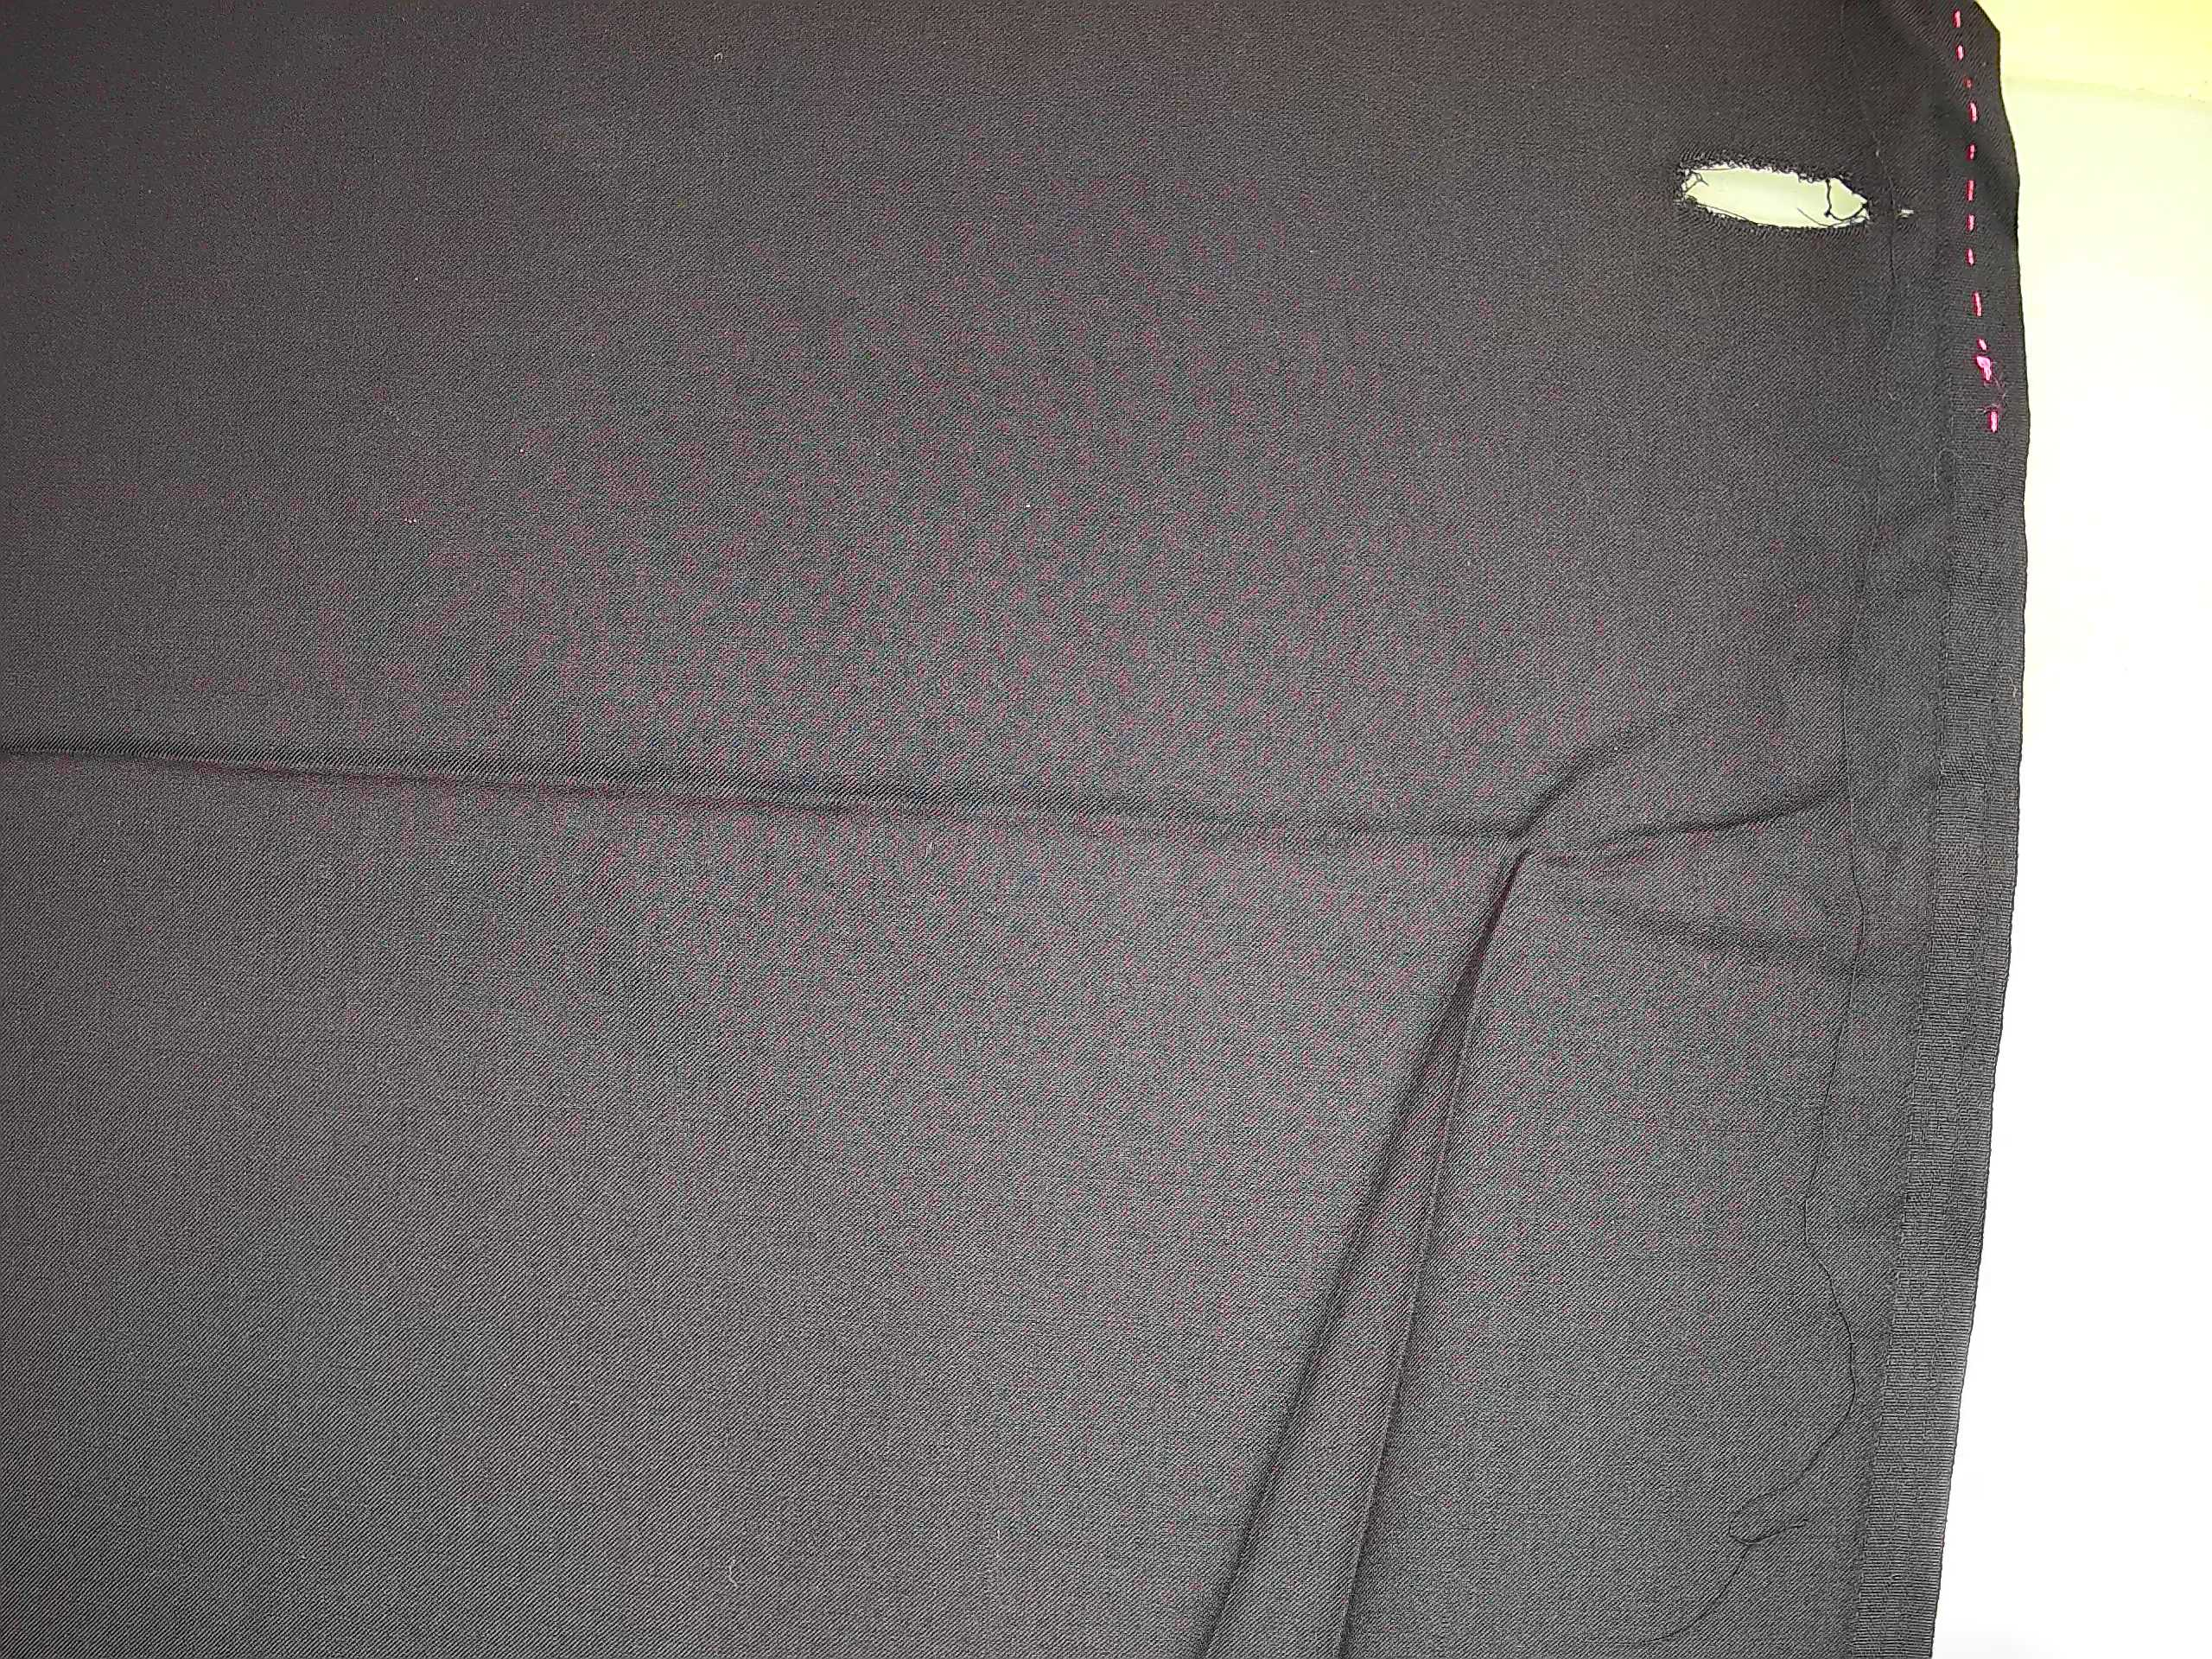brushed-hole: (1648, 120, 1902, 267)
